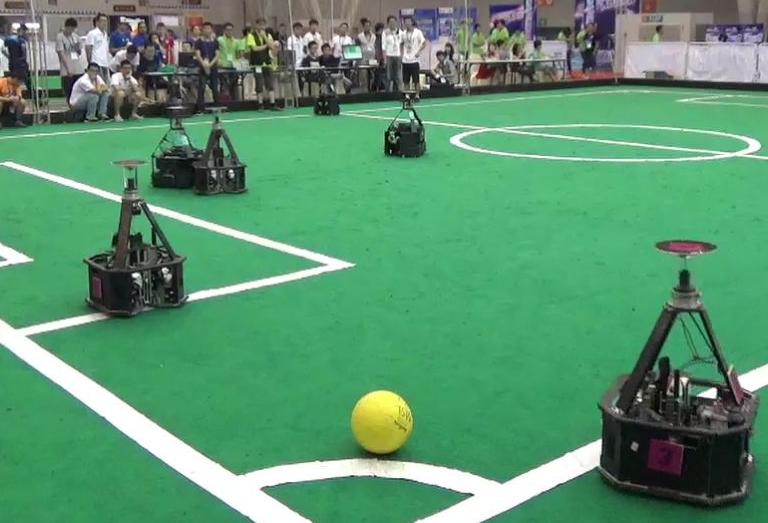robot: (590, 220, 756, 511), (82, 152, 192, 317)
